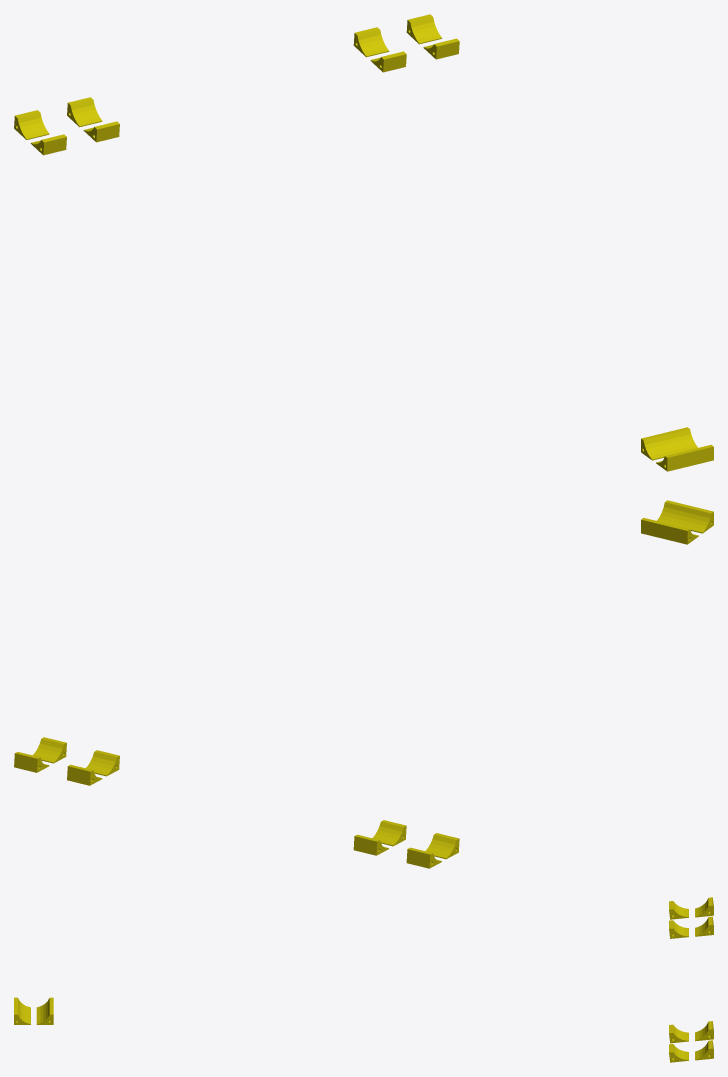
The model's file is Chocks.glb.
The picture shows the model from 3 angles, top to bottom: view 1: azimuth 30°, elevation 25°; view 2: azimuth 150°, elevation 25°; view 3: azimuth 270°, elevation 25°; orthographic projection. The views are drawn at different scales.
Parts seen in each view (by area): view 1: FW_ChocksBack, FW_ChocksFront, LW_L_ChocksBack.001, RW_R_ChocksBack, RW_L_ChocksBack, LW_R_ChocksBack.001; view 2: FW_ChocksFront, FW_ChocksBack, LW_R_ChocksFront.001, RW_R_ChocksFront, RW_L_ChocksFront, LW_L_ChocksFront.001; view 3: FW_ChocksBack, FW_ChocksFront.
Part boxes in pixels (x1=…): FW_ChocksBack: x1=641, y1=427, x2=697, y2=460; FW_ChocksFront: x1=656, y1=444, x2=713, y2=471; LW_L_ChocksBack.001: x1=14, y1=110, x2=49, y2=139; RW_R_ChocksBack: x1=406, y1=14, x2=442, y2=44; RW_L_ChocksBack: x1=353, y1=27, x2=389, y2=57; LW_R_ChocksBack.001: x1=67, y1=97, x2=102, y2=127; FW_ChocksFront: x1=657, y1=500, x2=713, y2=533; FW_ChocksBack: x1=641, y1=517, x2=698, y2=544; LW_R_ChocksFront.001: x1=372, y1=820, x2=406, y2=846; RW_R_ChocksFront: x1=33, y1=737, x2=66, y2=763; RW_L_ChocksFront: x1=86, y1=750, x2=119, y2=776; LW_L_ChocksFront.001: x1=425, y1=833, x2=459, y2=859; FW_ChocksBack: x1=36, y1=997, x2=53, y2=1024; FW_ChocksFront: x1=14, y1=997, x2=30, y2=1024.
Bounding box in the file's own units: 0.2013 × 0.027 × 0.3935.
